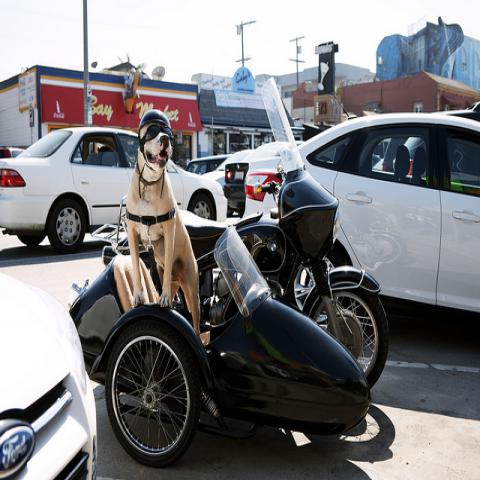car: (239, 115, 479, 322), (3, 129, 230, 247), (0, 268, 100, 460), (202, 148, 252, 188), (222, 164, 250, 214), (186, 153, 232, 176), (446, 109, 480, 123), (0, 147, 18, 158)
motorcycle: (178, 73, 392, 381)
